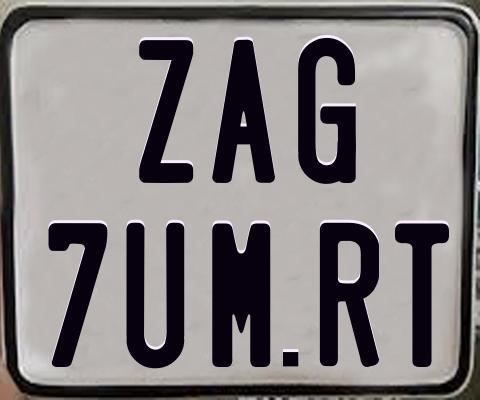7: (48, 220, 113, 366)
A: (209, 38, 277, 187)
G: (298, 38, 361, 189)
M: (211, 222, 270, 368)
R: (319, 220, 379, 370)
T: (395, 220, 454, 364)
U: (126, 222, 189, 373)
Z: (136, 39, 190, 188)
